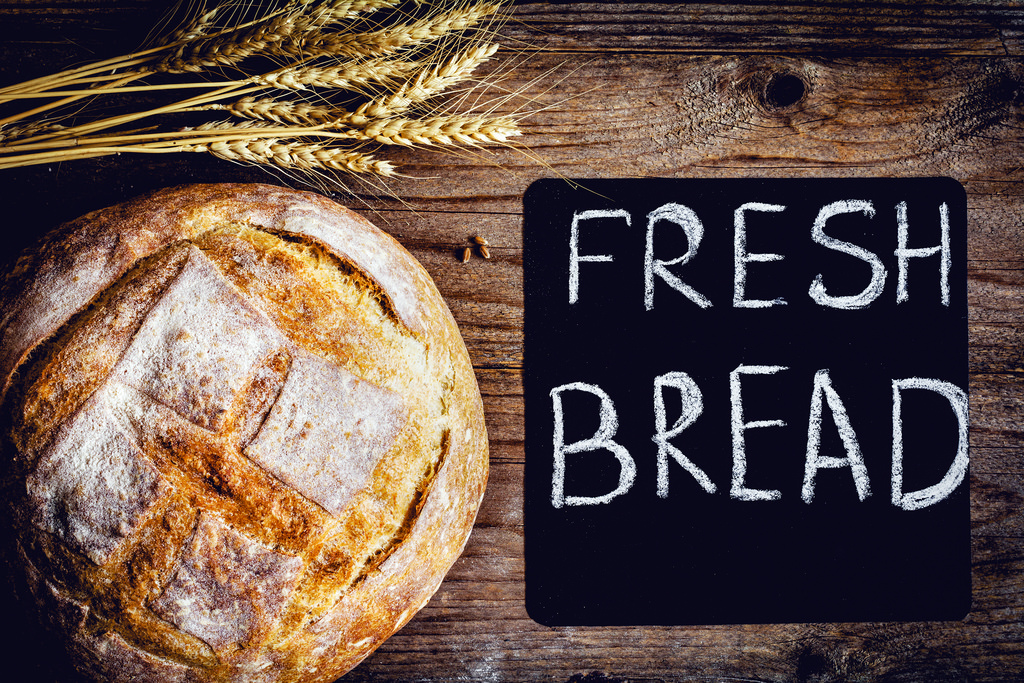slice of bread: (27, 246, 463, 656)
